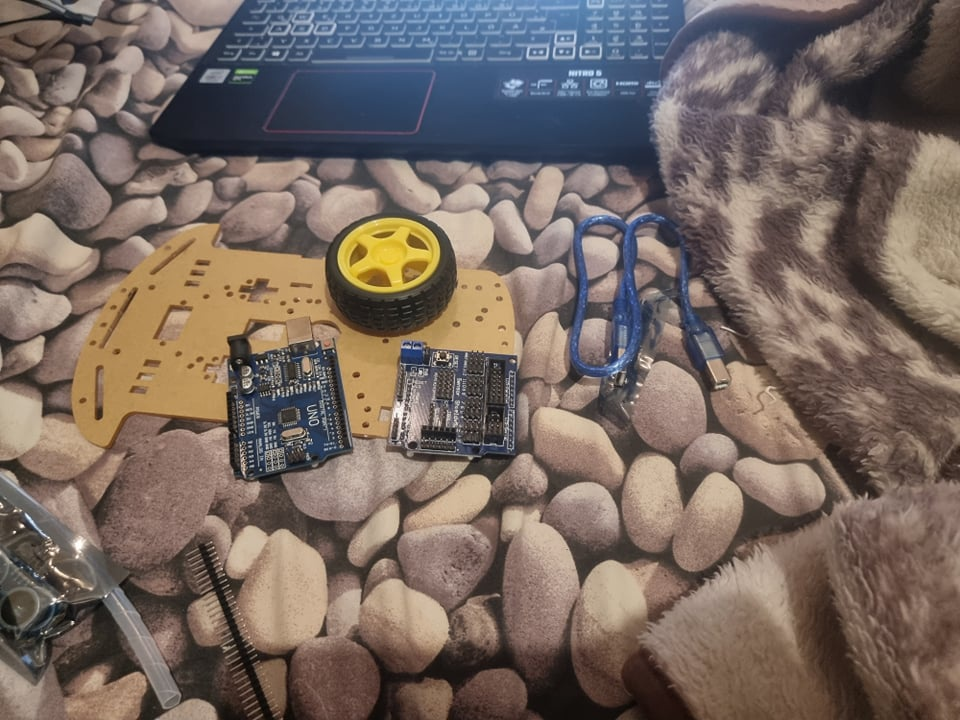5V EXPANSION: (387, 342, 519, 458)
SENSOR: (1, 552, 60, 648)
UNO R3: (226, 316, 352, 484)
